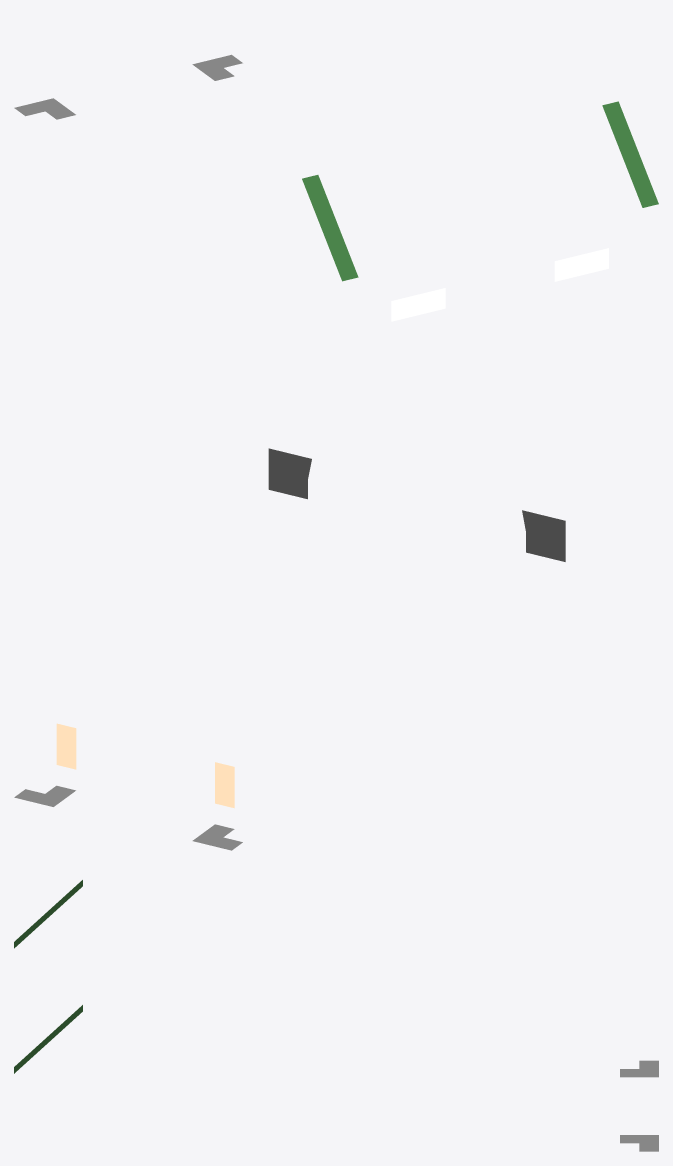
3 views of the same model, one above another, from view 1: azimuth 30°, elevation 25°; view 2: azimuth 150°, elevation 25°; view 3: azimuth 270°, elevation 25° (orthographic). The views are drawn at different scales.
Visible parts, largest first — view 1: arm, body.003; view 2: body.003; view 3: body.003, arm.
Part boxes in pixels (x1,y1,x2,y2): arm: (302,101,658,281); body.003: (14,54,608,321); body.003: (14,448,565,850); body.003: (620,1060,658,1151); arm: (14,880,82,1073).
Bounding box in the file's own units: 1.6 × 0.9082 × 3.3.
